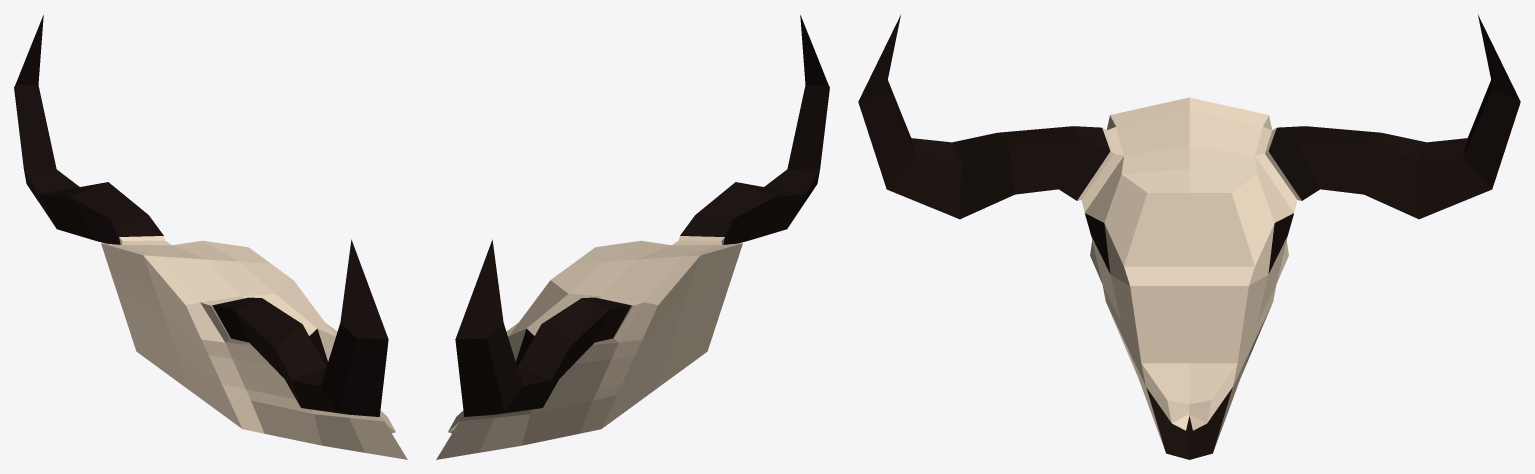
The model's file is p_skull.glb.
The picture shows the model from 3 angles, left to right: view 1: azimuth 30°, elevation 25°; view 2: azimuth 150°, elevation 25°; view 3: azimuth 270°, elevation 25°; orthographic projection. The views are drawn at different scales.
Parts seen in each view (by area): view 1: Cube; view 2: Cube; view 3: Cube.
Boxes of the visible parts, x1,y1,x2,y2 form: Cube: (14,15,407,459); Cube: (436,15,829,459); Cube: (858,15,1520,459).
Size of the model in its own units: 2 by 2.88 by 4.86.
